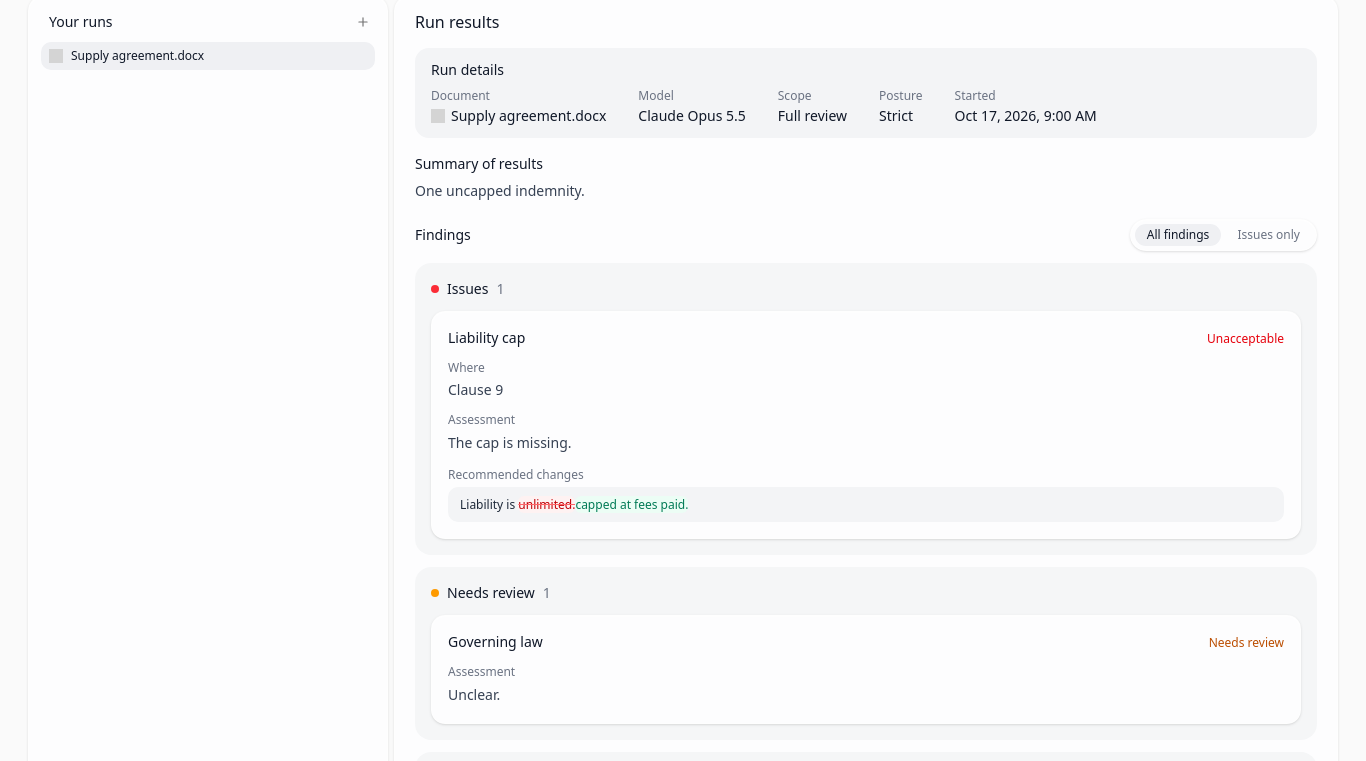
playbook runs › can show only the issues of a full review, without losing the rest
This screenshot has width=1366, height=761.
Click the button "Issues only".
click(1269, 235)  # box [1225,224,1312,246]
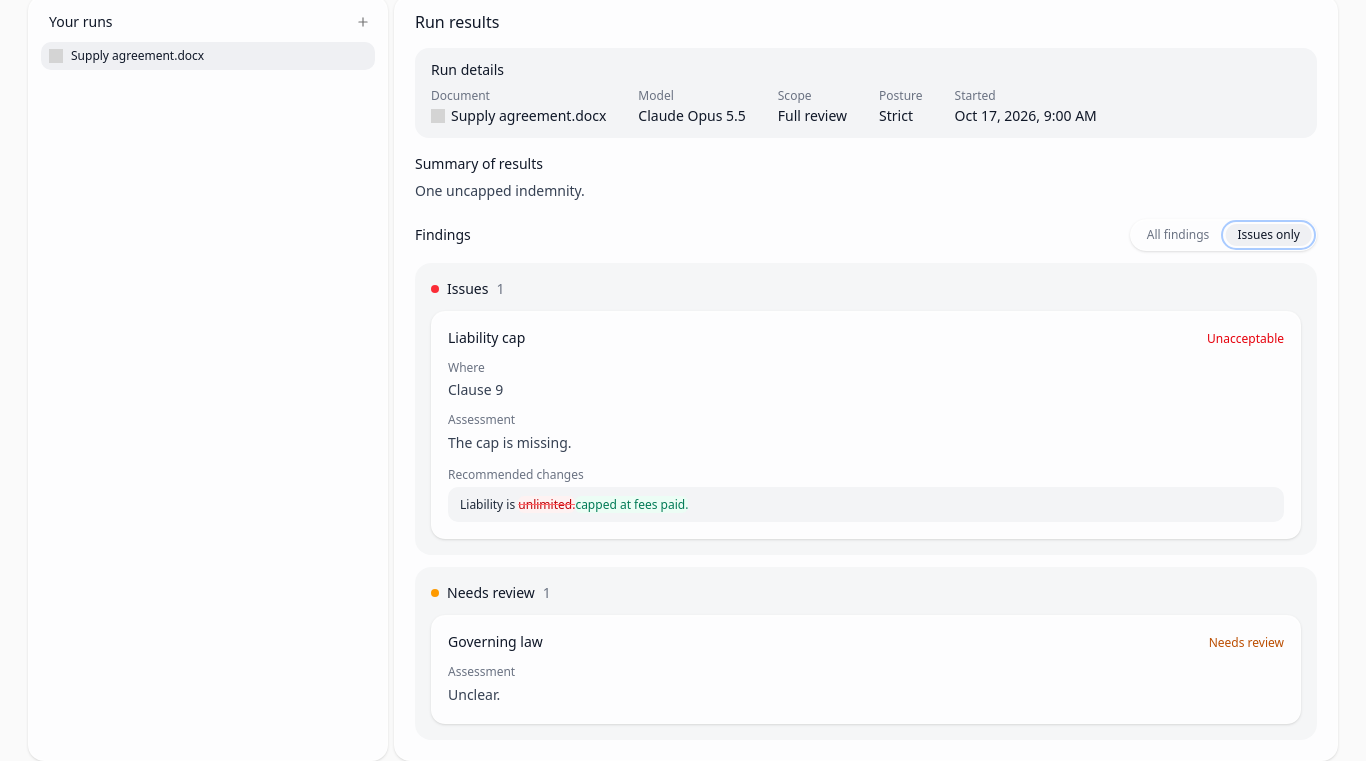
Expected: the element "Issues" is shown, [415,263,1317,555]
Expected: the element "Needs review" is shown, [415,567,1317,740]
Click the button "All findings".
click(1178, 235)  # box [1135,224,1221,246]
(page scrolled)
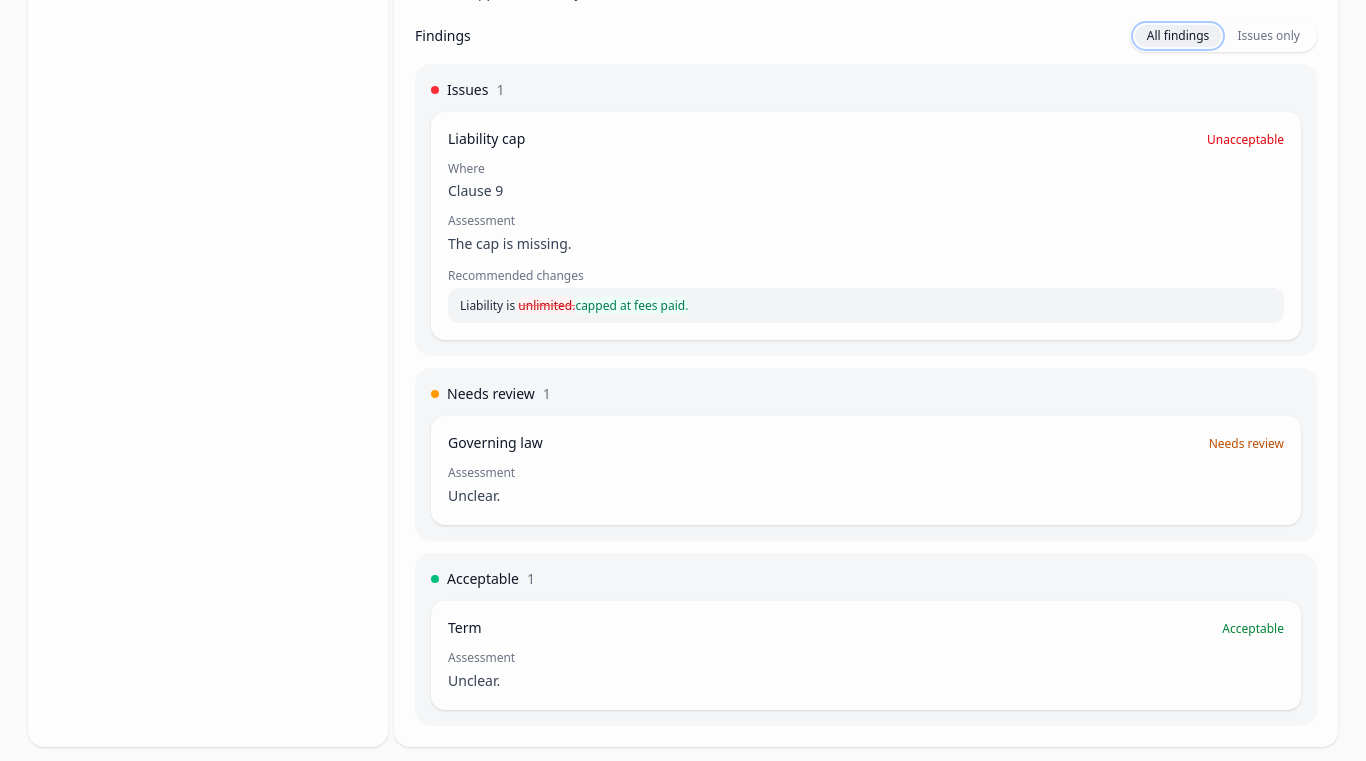
Result: the element "Acceptable 1 Term Acceptable Assessment Unclear." is shown at [415,553,1317,726]
